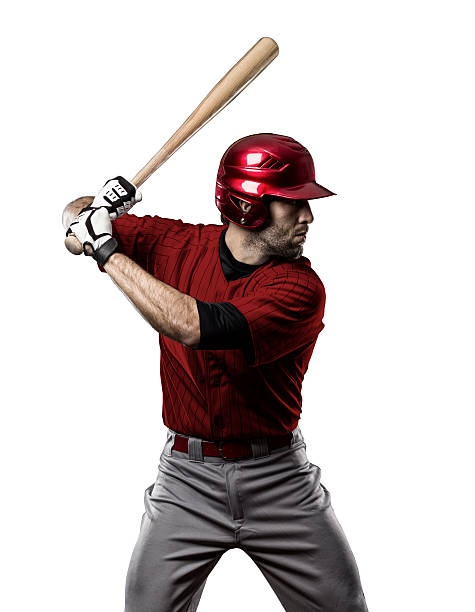bita: (81, 33, 270, 248)
